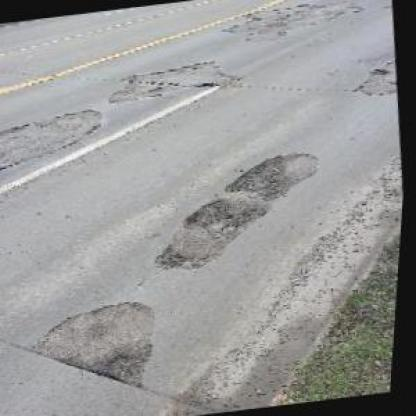pothole: (184, 194, 269, 234), (226, 151, 293, 198), (102, 348, 156, 388)
